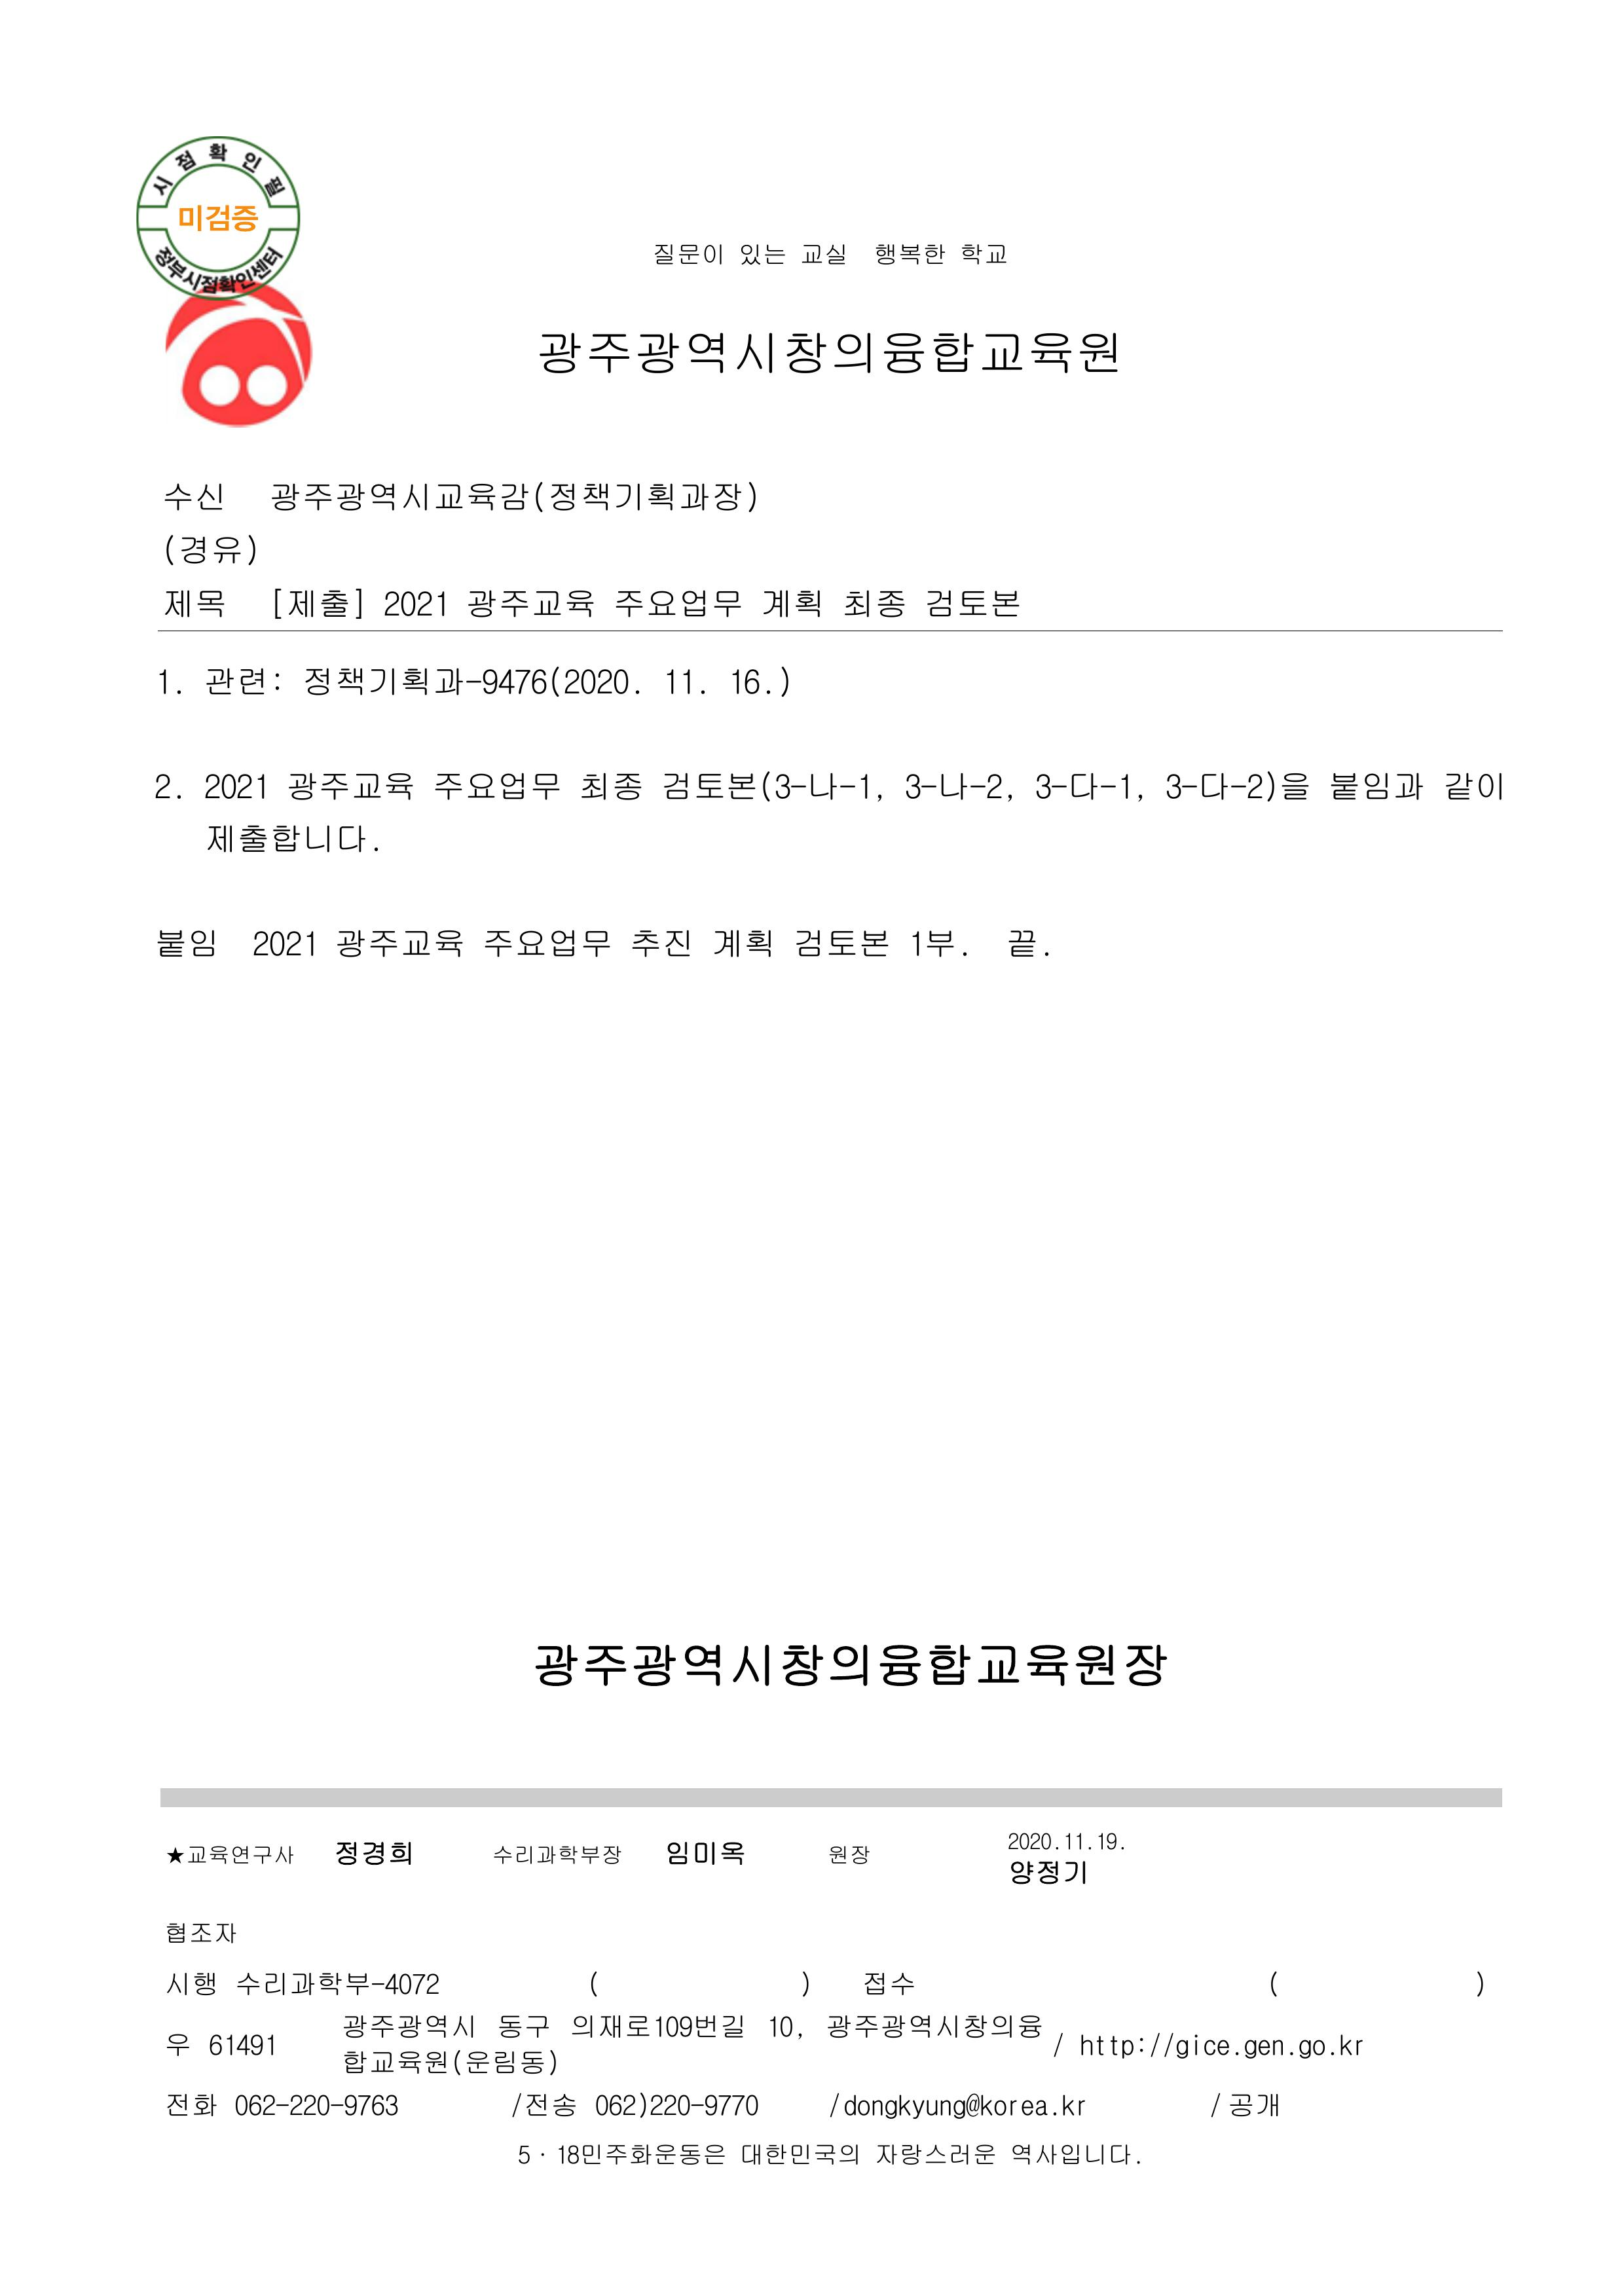t: (534, 1638, 1169, 1696), (538, 327, 1123, 380), (269, 476, 761, 517), (301, 662, 638, 699), (656, 766, 886, 807), (824, 2007, 1044, 2044), (341, 2040, 561, 2075), (236, 1966, 441, 2002), (842, 2095, 1062, 2123), (204, 821, 376, 856), (569, 2007, 745, 2040), (1162, 766, 1308, 803), (332, 924, 466, 963), (341, 2007, 480, 2044), (462, 583, 596, 620), (480, 924, 613, 961), (610, 583, 742, 620), (283, 766, 411, 803), (431, 766, 559, 803), (900, 766, 1014, 803), (1033, 766, 1148, 803), (603, 2137, 728, 2168), (872, 2137, 997, 2168), (269, 583, 366, 624), (162, 531, 258, 569), (1327, 766, 1427, 803), (921, 583, 1018, 620), (793, 924, 889, 961), (1011, 2140, 1137, 2168), (591, 2089, 696, 2123), (738, 2140, 863, 2168), (494, 1843, 624, 1868), (169, 1843, 297, 1868), (176, 200, 258, 237), (204, 662, 286, 699), (334, 1836, 417, 1868), (663, 1836, 745, 1868), (1007, 1857, 1090, 1889), (380, 583, 448, 620), (838, 583, 907, 620), (200, 766, 269, 803), (872, 237, 951, 269), (251, 924, 318, 961), (162, 583, 227, 620), (576, 766, 642, 803), (1441, 766, 1506, 803), (761, 583, 824, 620), (155, 924, 218, 961), (627, 924, 691, 961), (710, 924, 773, 961), (907, 924, 968, 961), (165, 480, 227, 513), (508, 2089, 576, 2119), (1162, 2033, 1234, 2061), (494, 2007, 548, 2044), (1225, 2089, 1283, 2123), (337, 2089, 401, 2119), (700, 2089, 763, 2119), (659, 662, 710, 699), (1079, 2031, 1149, 2058), (724, 662, 773, 699), (165, 1922, 239, 1947), (207, 2033, 279, 2058), (165, 2089, 221, 2119), (165, 1968, 218, 2000), (649, 239, 703, 269), (735, 239, 789, 269), (796, 239, 849, 269), (552, 2140, 606, 2168), (228, 2089, 279, 2119), (1004, 924, 1044, 961), (286, 2089, 334, 2119), (958, 244, 1007, 269), (1241, 2037, 1287, 2061), (1007, 1833, 1058, 1854), (766, 2016, 807, 2040), (1297, 2037, 1338, 2061), (828, 1847, 872, 1868), (151, 771, 179, 803), (863, 1972, 889, 1996), (1062, 2096, 1090, 2119), (1093, 1833, 1123, 1854), (703, 244, 728, 269), (1062, 1833, 1090, 1854), (1338, 2037, 1366, 2058), (156, 671, 179, 696), (773, 671, 793, 699), (893, 1972, 914, 1993), (1207, 2095, 1225, 2119), (517, 2144, 534, 2165)
